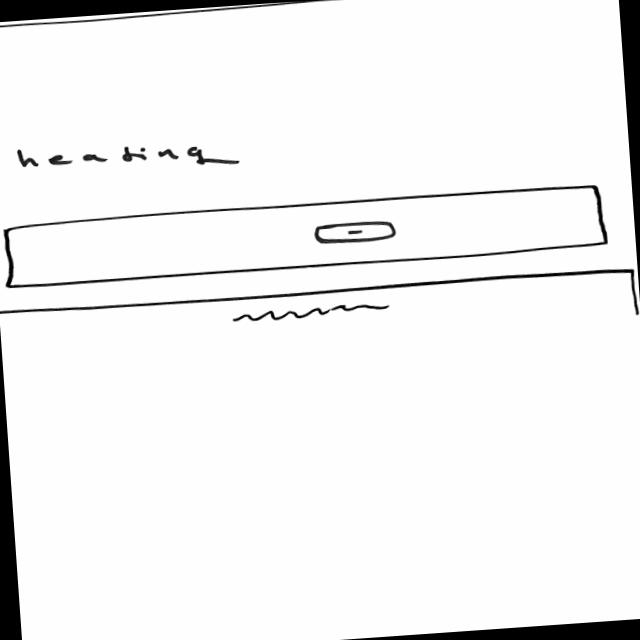container: (0, 180, 609, 290), (0, 0, 617, 30)
icon-button: (313, 218, 396, 246)
label: (16, 131, 242, 181)
text: (230, 300, 390, 326)
